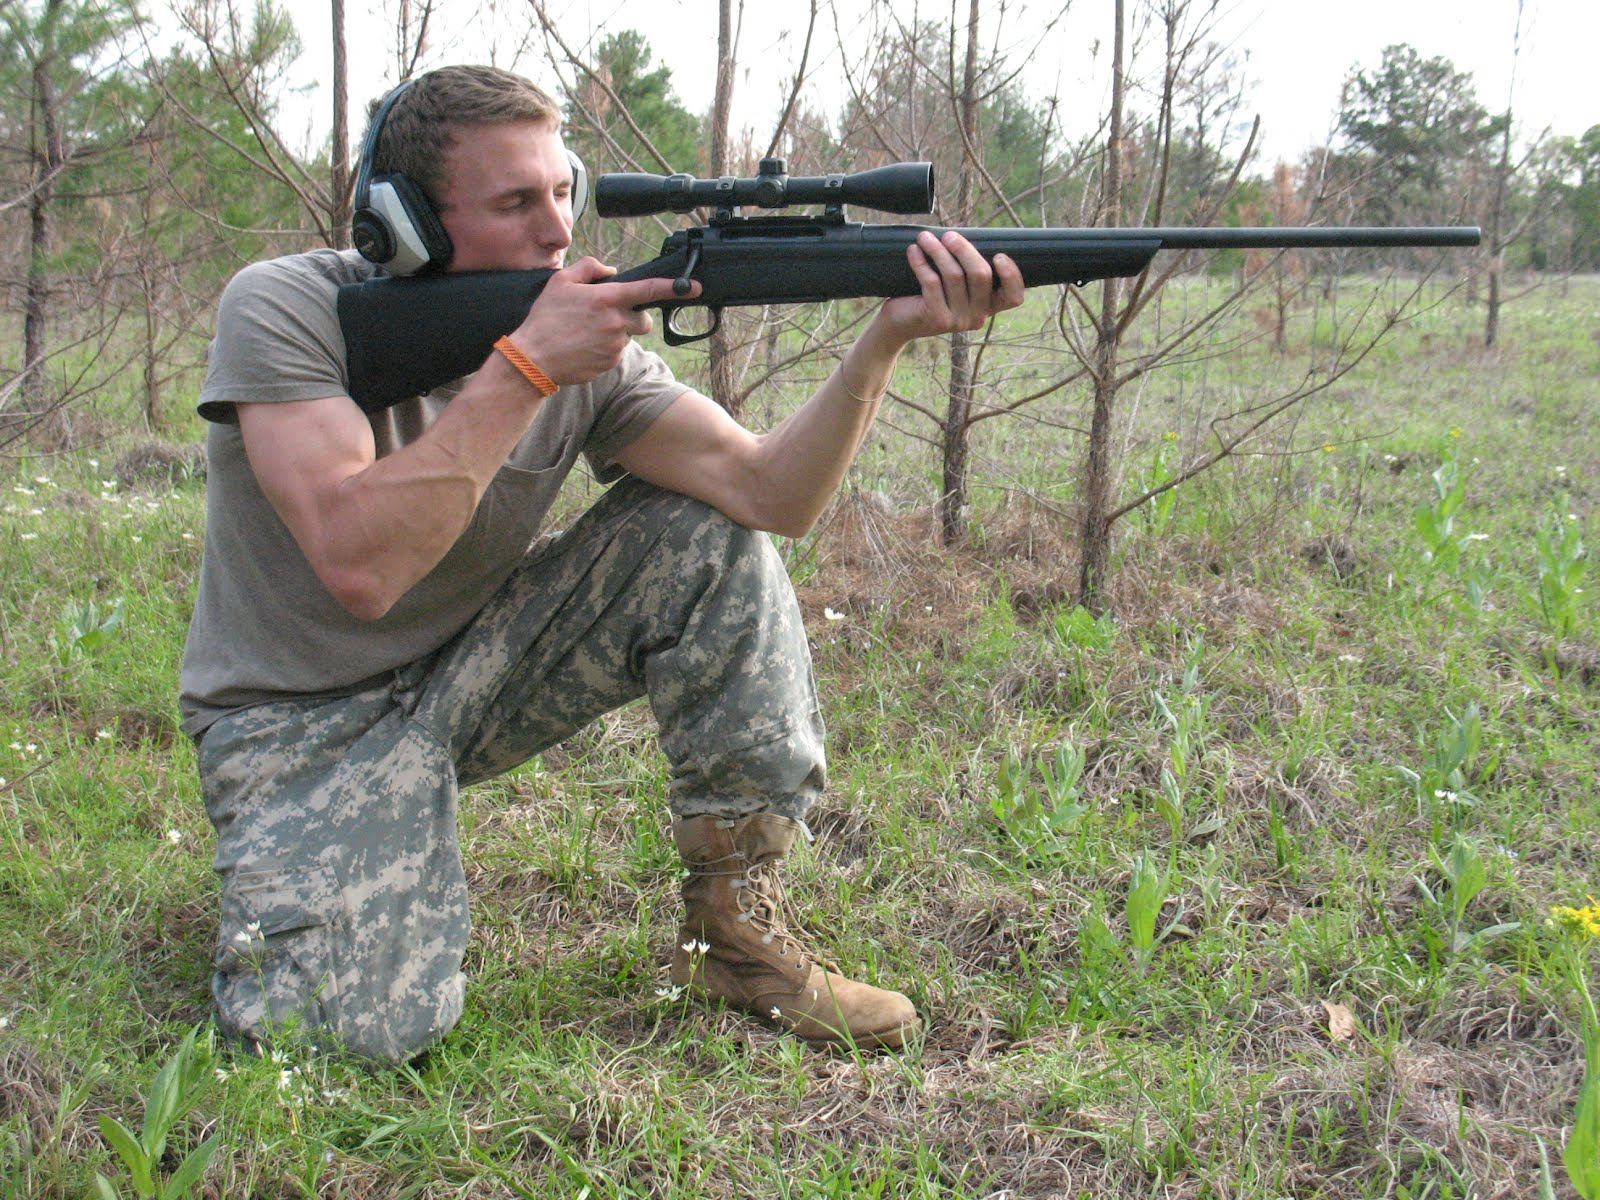Rifle: (336, 142, 1487, 431)
